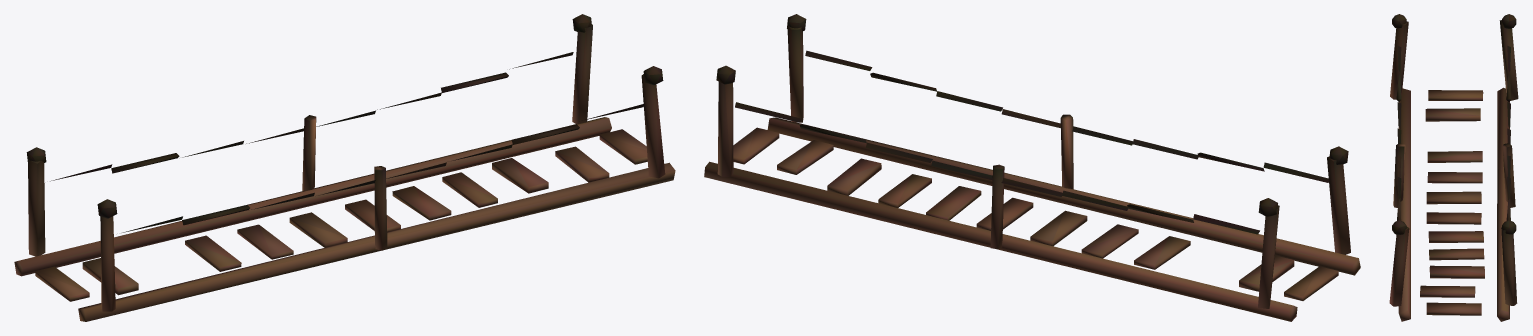
File: bridge_bk_foret_broceliande_0000.glb
The picture shows the model from 3 angles, left to right: view 1: azimuth 30°, elevation 25°; view 2: azimuth 150°, elevation 25°; view 3: azimuth 270°, elevation 25°; orthographic projection. The views are drawn at different scales.
Parts seen in each view (by area): view 1: bridge_bk_000; view 2: bridge_bk_000; view 3: bridge_bk_000.
Boxes of the visible parts, x1=… form: bridge_bk_000: x1=14, y1=14, x2=675, y2=321; bridge_bk_000: x1=704, y1=14, x2=1360, y2=321; bridge_bk_000: x1=1389, y1=14, x2=1518, y2=321.
Bounding box in the file's own units: 2.76 × 0.5408 × 0.6758.
